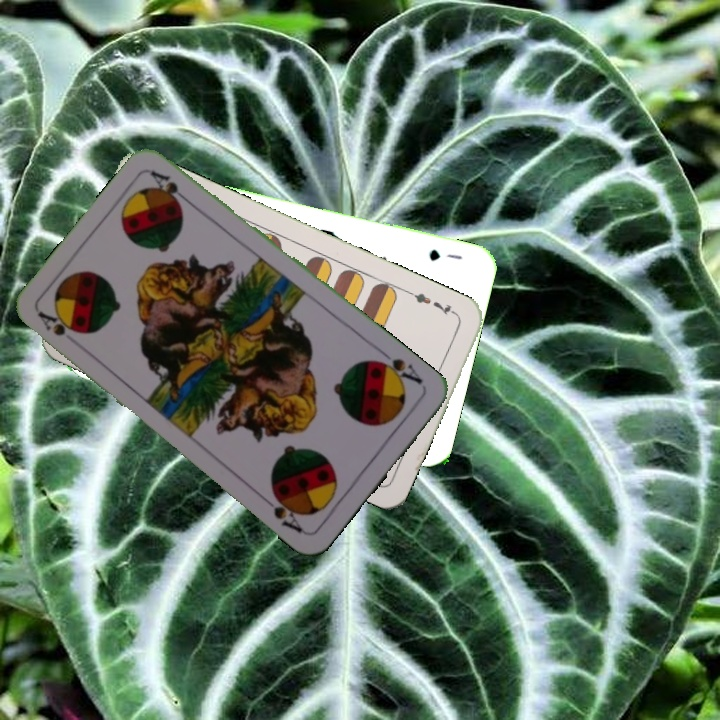E7: (405, 287, 461, 319)
GU: (425, 245, 465, 264)
SA: (370, 347, 425, 389), (34, 307, 79, 339)
